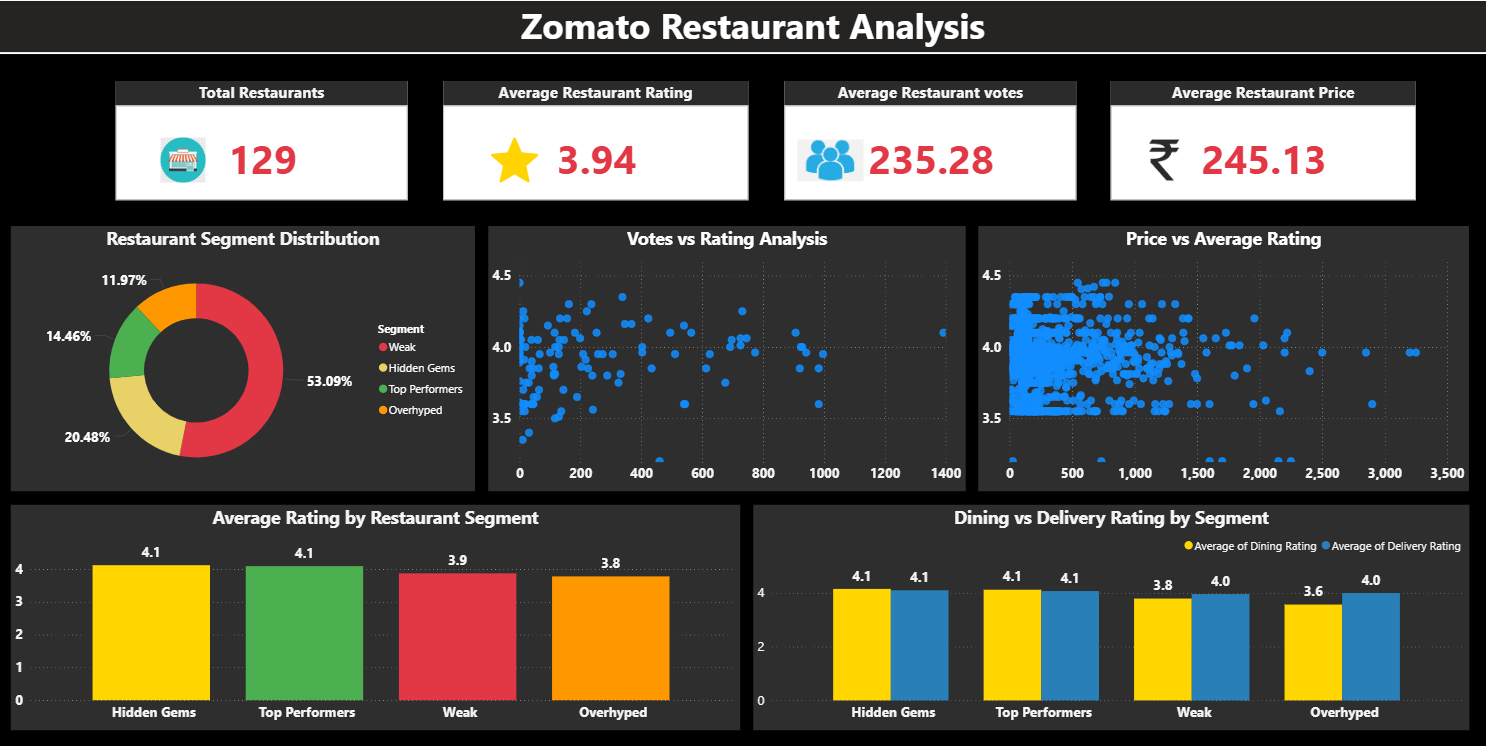

The dashboard page shown, as its layout file describes it:
{"tool":"powerbi","page":{"name":"Page 1","canvas":[1800,900],"ordinal":0},"visuals":[{"type":"cardVisual","title":"Total Restaurants","fields":{"Data":["Count(zomato_hyderabad_cleaned.restaurant_name)"]},"box":[144,96,352,144],"z":0},{"type":"cardVisual","title":"Average Restaurant Rating","fields":{"Data":["Avg(zomato_hyderabad_cleaned.avg_rating)"]},"box":[538.7,96,368,144],"z":1000},{"type":"cardVisual","title":"Average Restaurant votes","fields":{"Data":["Avg(zomato_hyderabad_cleaned.total_votes)"]},"box":[949.3,96,352,144],"z":2000},{"type":"cardVisual","title":"Average Restaurant Price","fields":{"Data":["Avg(zomato_hyderabad_cleaned.price)"]},"box":[1344,96,368,144],"z":3000},{"type":"donutChart","title":"Restaurant Segment Distribution","fields":{"Category":["zomato_hyderabad_cleaned.Segment_Display"],"Y":["CountNonNull(zomato_hyderabad_cleaned.Segment_Display)"]},"box":[16,272,560,320],"z":4000},{"type":"clusteredColumnChart","title":"Average Rating by Restaurant Segment","fields":{"Category":["zomato_hyderabad_cleaned.Segment_Display"],"Y":["Avg(zomato_hyderabad_cleaned.avg_rating)"]},"box":[16,608,880,272],"z":5000},{"type":"scatterChart","title":"Votes vs Rating Analysis","fields":{"X":["zomato_hyderabad_cleaned.total_votes"],"Y":["zomato_hyderabad_cleaned.avg_rating"]},"box":[592,272,576,320],"z":6000},{"type":"scatterChart","title":"Price vs Average Rating","fields":{"X":["zomato_hyderabad_cleaned.price"],"Y":["Avg(zomato_hyderabad_cleaned.avg_rating)"]},"box":[1184,272,592,320],"z":7000},{"type":"clusteredColumnChart","title":"Dining vs Delivery Rating by Segment","fields":{"Category":["zomato_hyderabad_cleaned.Segment_Display"],"Y":["Avg(zomato_hyderabad_cleaned.dining_rating)","Avg(zomato_hyderabad_cleaned.delivery_rating)"]},"box":[912,608,864,272],"z":8000},{"type":"textbox","title":"Zomato Restaurant Analysis","box":[0,0,1824,64],"z":9000},{"type":"image","box":[176,160,96,64],"z":10000},{"type":"image","box":[576,160,96,64],"z":11000},{"type":"image","box":[960,160,90,64],"z":12000},{"type":"image","box":[1360,160,96,64],"z":13000}]}

Visuals, with their boxes in screenshot pixels (x1, y1, x2, y2), scaled from the page's 1800x900 canvas onto the 1486x746 screenshot:
"Total Restaurants" cardVisual: l=119, t=80, r=409, b=199
"Average Restaurant Rating" cardVisual: l=445, t=80, r=749, b=199
"Average Restaurant votes" cardVisual: l=784, t=80, r=1074, b=199
"Average Restaurant Price" cardVisual: l=1110, t=80, r=1413, b=199
"Restaurant Segment Distribution" donutChart: l=13, t=225, r=476, b=491
"Average Rating by Restaurant Segment" clusteredColumnChart: l=13, t=504, r=740, b=729
"Votes vs Rating Analysis" scatterChart: l=489, t=225, r=964, b=491
"Price vs Average Rating" scatterChart: l=977, t=225, r=1466, b=491
"Dining vs Delivery Rating by Segment" clusteredColumnChart: l=753, t=504, r=1466, b=729
"Zomato Restaurant Analysis" textbox: l=0, t=0, r=1485, b=53
image: l=145, t=133, r=225, b=186
image: l=476, t=133, r=555, b=186
image: l=793, t=133, r=867, b=186
image: l=1123, t=133, r=1202, b=186
